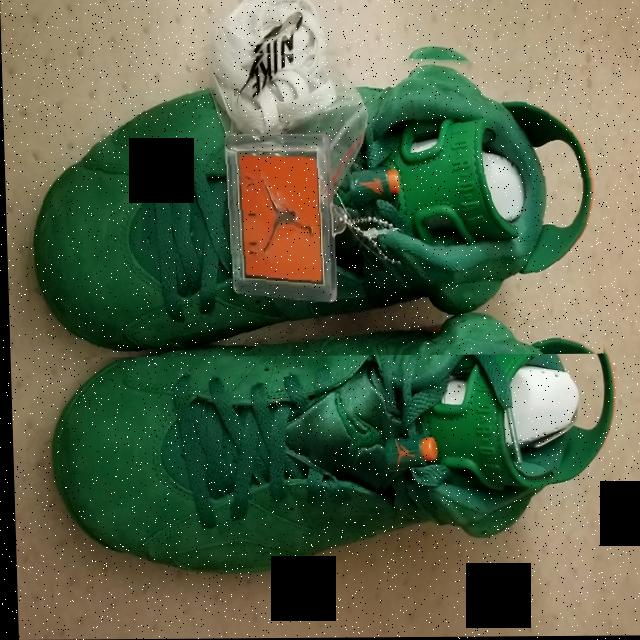shoe: (17, 41, 601, 358), (35, 286, 620, 586)
